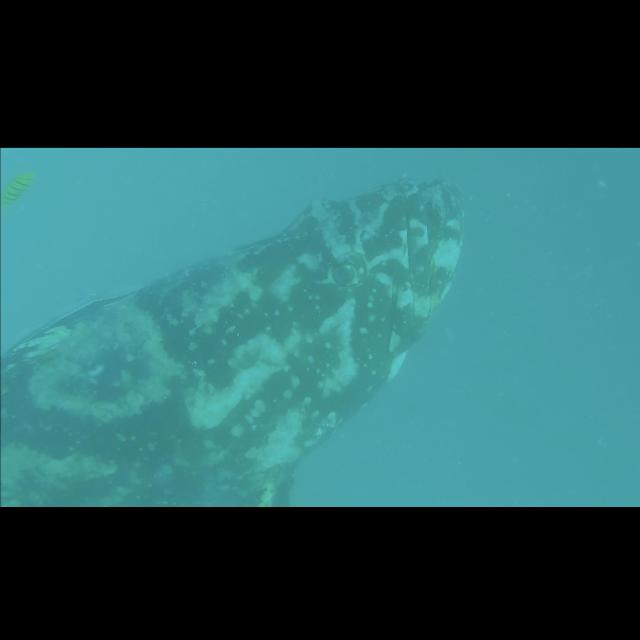Groupers: (0, 175, 468, 508)
